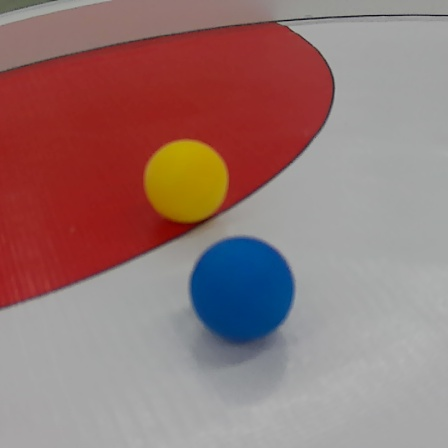blue: (184, 234, 304, 345)
red_base: (2, 19, 337, 299)
yellow: (143, 137, 229, 226)
